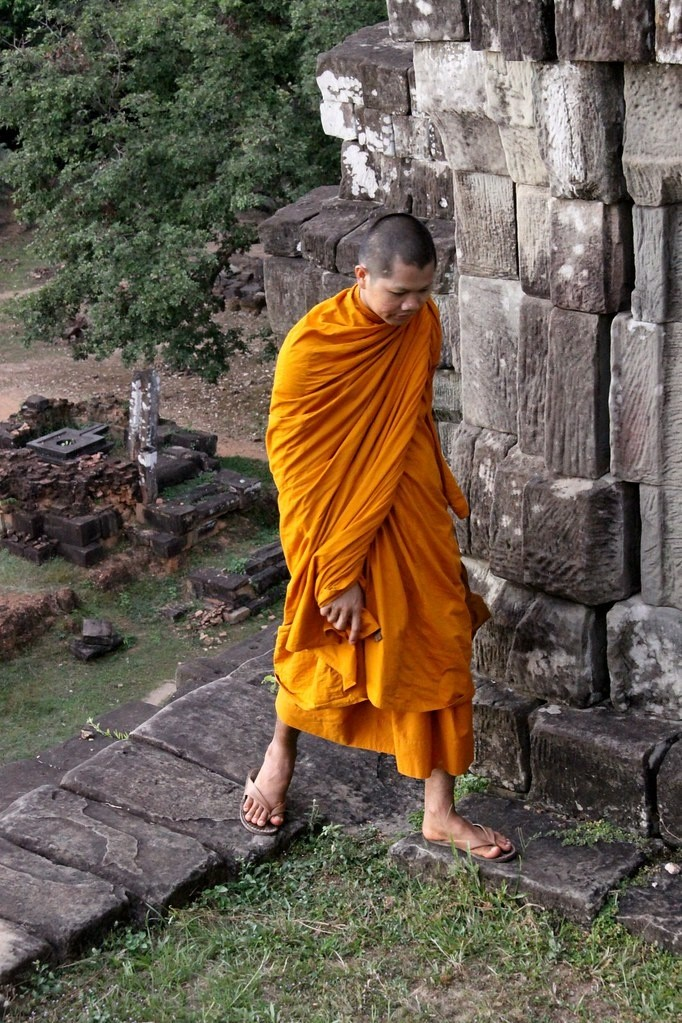face_no_mask: (353, 218, 437, 328)
